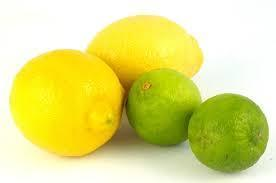lemon: (9, 48, 127, 157), (86, 14, 204, 91)
